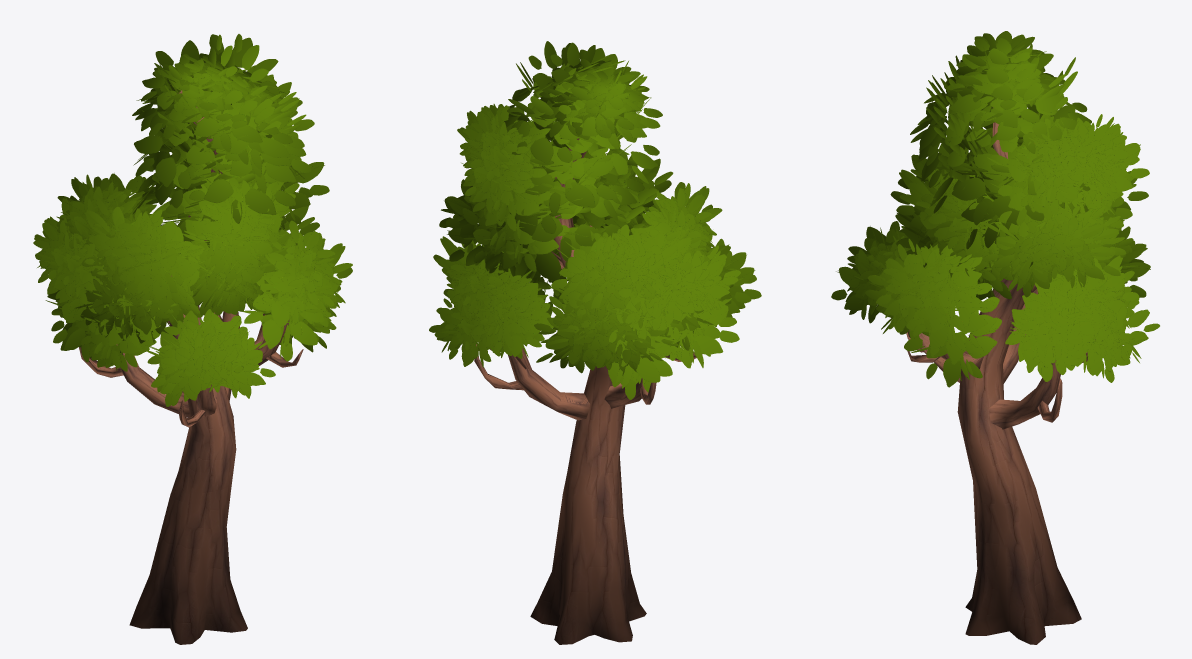
The model's file is CommonTree_2_s.gltf.
The picture shows the model from 3 angles, left to right: view 1: azimuth 30°, elevation 25°; view 2: azimuth 150°, elevation 25°; view 3: azimuth 270°, elevation 25°; orthographic projection. The views are drawn at different scales.
Parts seen in each view (by area): view 1: CommonTree_2; view 2: CommonTree_2; view 3: CommonTree_2.
Boxes of the visible parts, x1,y1,x2,y2 form: CommonTree_2: [33, 34, 352, 644]; CommonTree_2: [429, 41, 761, 644]; CommonTree_2: [831, 31, 1159, 644].
Size of the model in its own units: 4.46 by 7.64 by 4.28.
2 materials, 2 textured.
